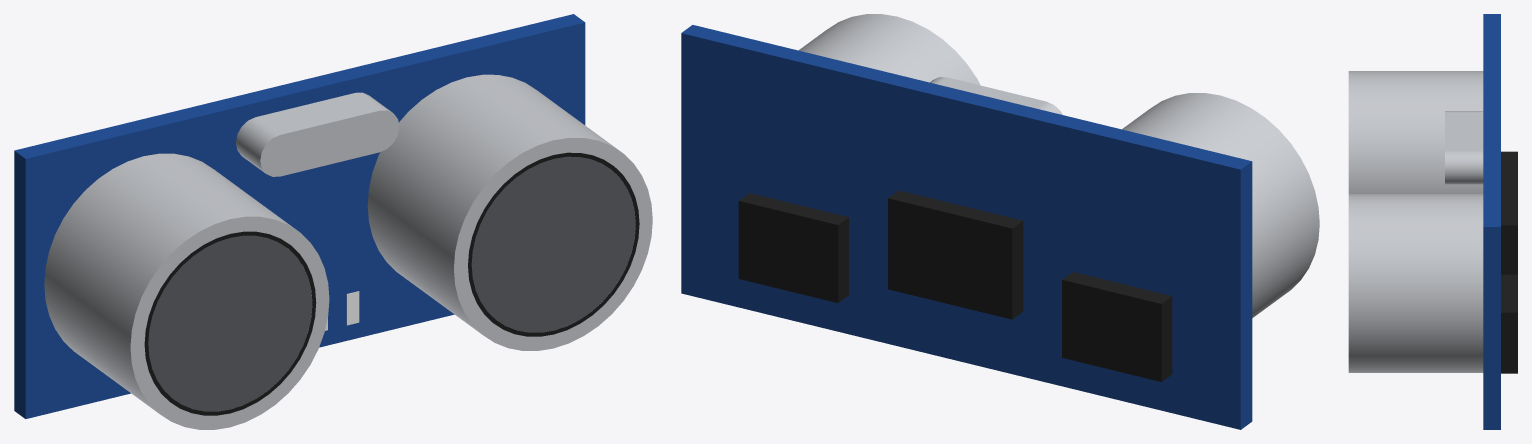
Rendered from gridie-hc-sr04.glb.
3 renders of one model, left to right at view 1: azimuth 30°, elevation 25°; view 2: azimuth 150°, elevation 25°; view 3: azimuth 270°, elevation 25°, orthographic. The views are drawn at different scales.
Size of the model in its own units: 0.045 by 0.02 by 0.0152.
